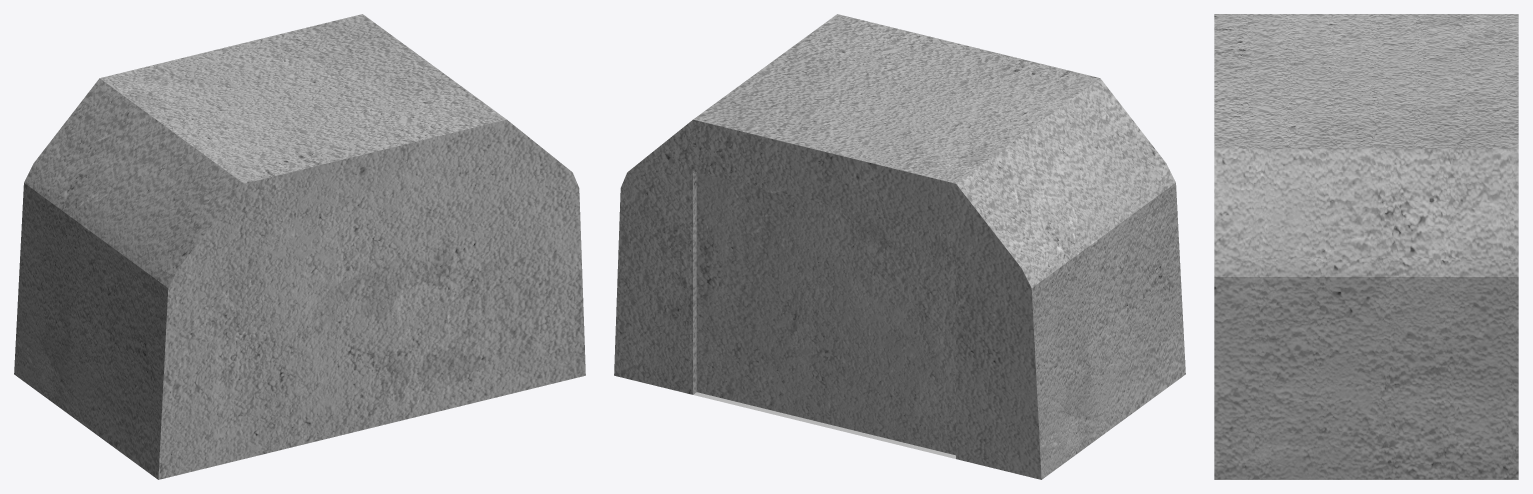
File: BASA.fbx
3 renders of one model, left to right at view 1: azimuth 30°, elevation 25°; view 2: azimuth 150°, elevation 25°; view 3: azimuth 270°, elevation 25°, orthographic. The views are drawn at different scales.
Parts seen in each view (by area): view 1: Cube__1_; view 2: Cube__1_; view 3: Cube__1_.
Part boxes in pixels (x1,y1,x2,y2): Cube__1_: [14, 14, 585, 479]; Cube__1_: [614, 14, 1185, 479]; Cube__1_: [1214, 14, 1518, 479].
Size of the model in its own units: 650 by 403 by 380.
